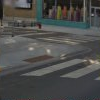crosswalk: (20, 58, 100, 79)
